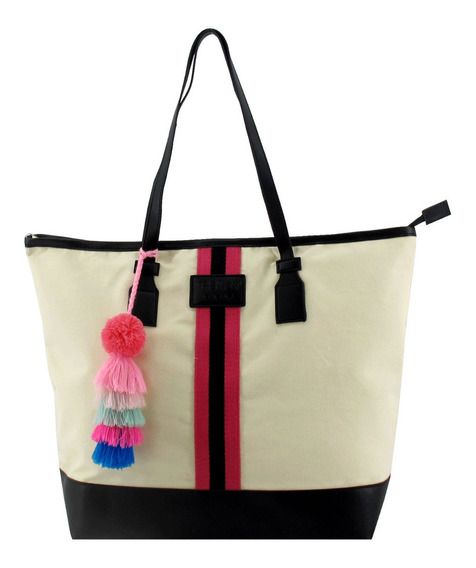cartera: (23, 27, 419, 543)
